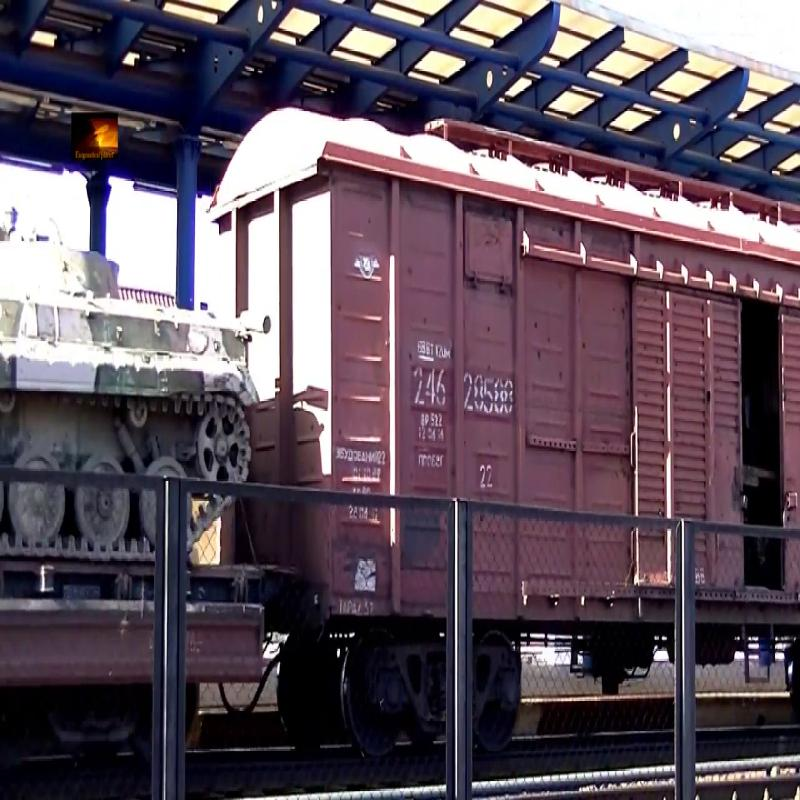train: (259, 5, 800, 769), (1, 6, 222, 772)
